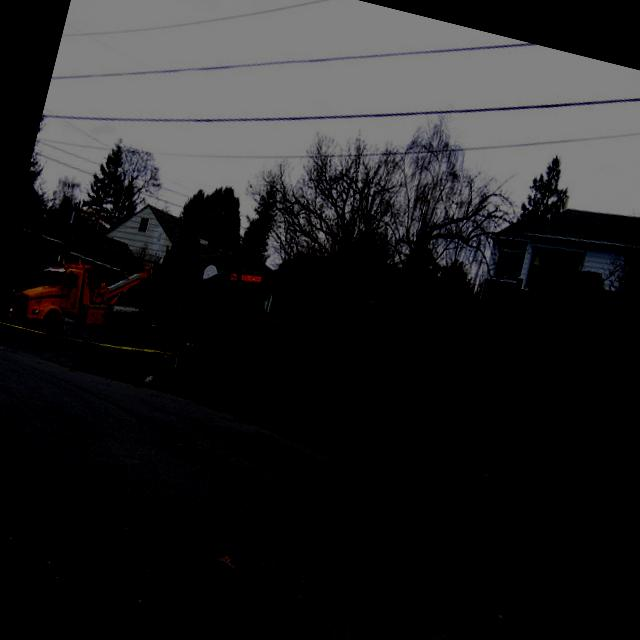Vehicle: (7, 236, 162, 366), (175, 254, 275, 335)
